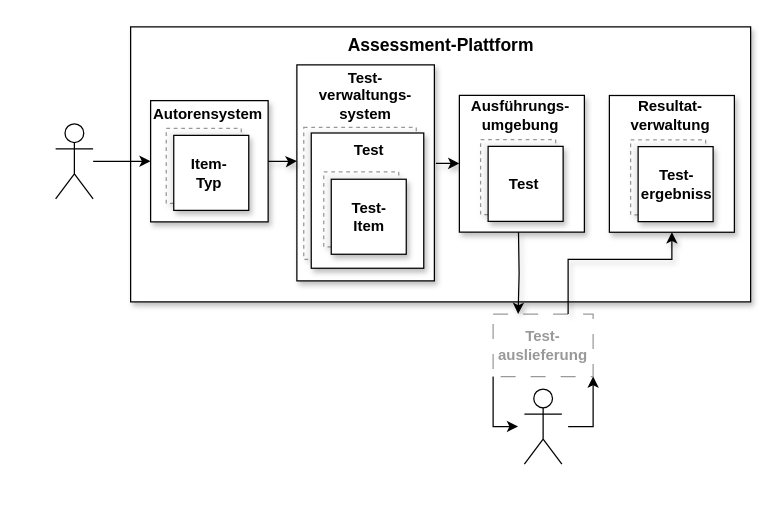
Some shapes in this 780 by 513 pixel diagram are drawn without their labels. Here are the shapes that lost their labels. From the top down, the centre of each, then its label:
At (x=73, y=160): "Aufgabenautor".
At (x=542, y=426): "Testbearbeiter".
